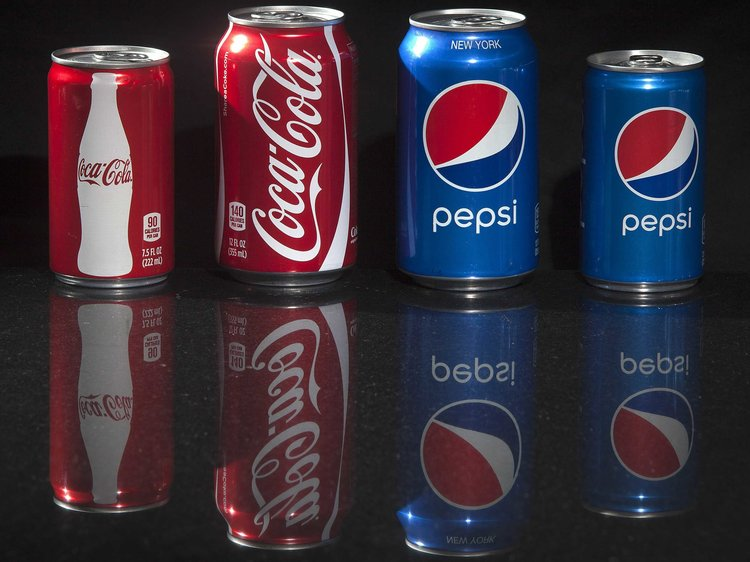pepsi: (417, 74, 524, 188), (415, 396, 522, 509), (417, 80, 524, 188), (421, 78, 524, 188), (421, 80, 524, 188), (606, 379, 695, 477), (606, 384, 695, 477), (614, 105, 699, 199)
